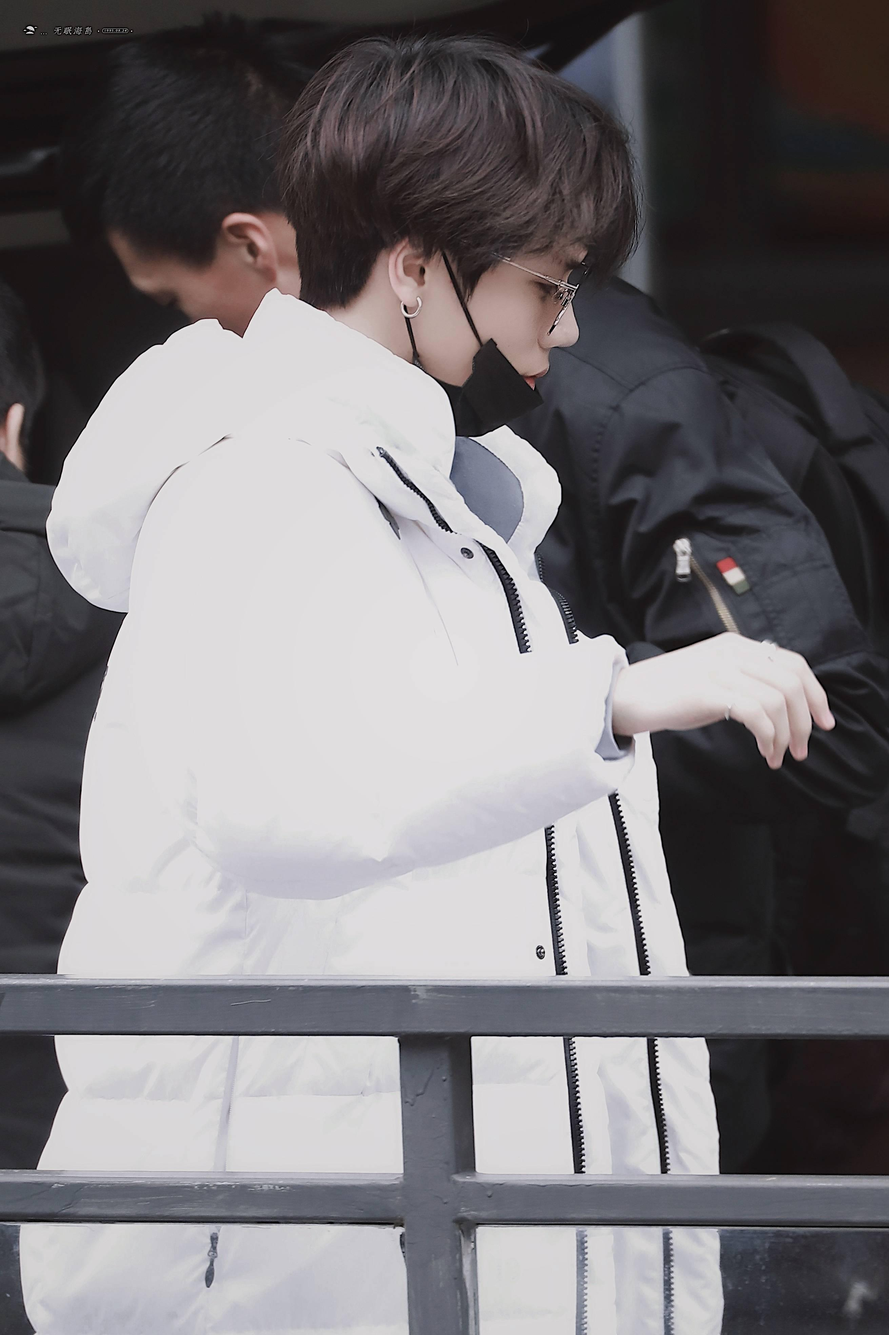WRONG: (461, 207, 592, 429)
